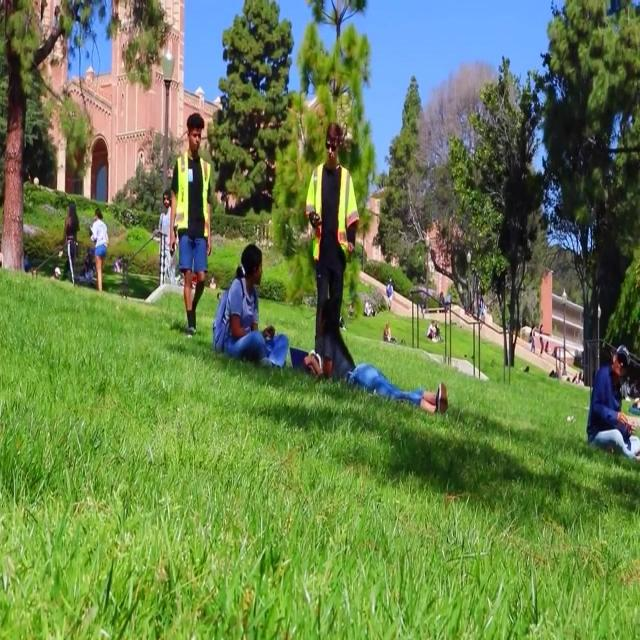Reflective-Jacket: (308, 160, 358, 263), (171, 152, 215, 261)
